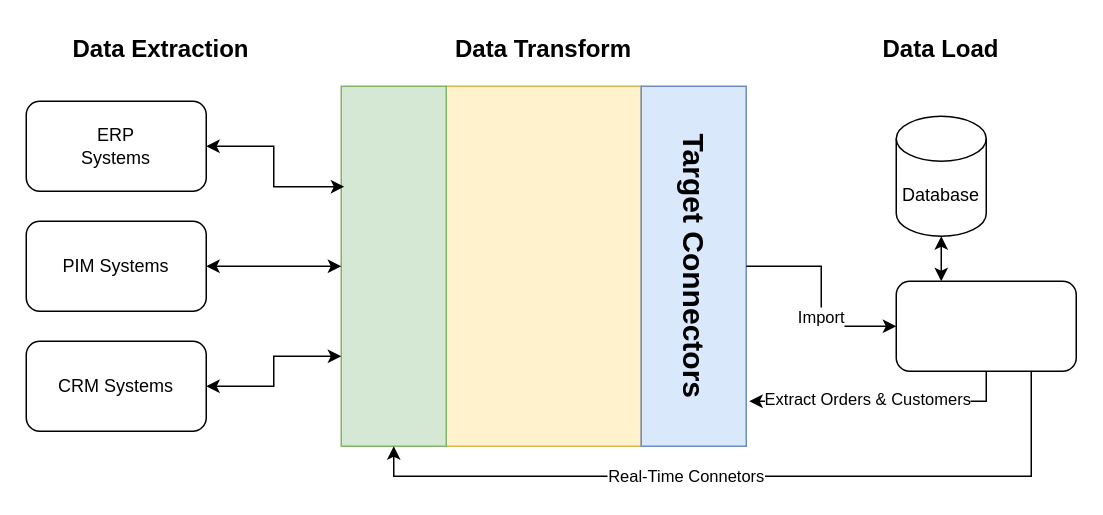
Some shapes in this 1103 by 515 pixel diagram are drawn without their labels. The centre of each missing label's shape, as x and y in pixels:
Custom Connectors: the point at 393,265
ESL Core: the point at 543,265
Shop Systems: the point at 985,325
